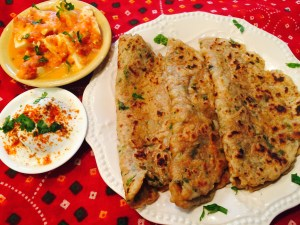aloo_paratha: (115, 34, 300, 212)
